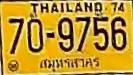0: (26, 18, 43, 53)
5: (92, 16, 109, 51)
6: (111, 16, 127, 50)
7: (75, 16, 91, 52), (8, 18, 23, 54)
9: (57, 16, 74, 51)
SKN: (39, 56, 100, 71)
